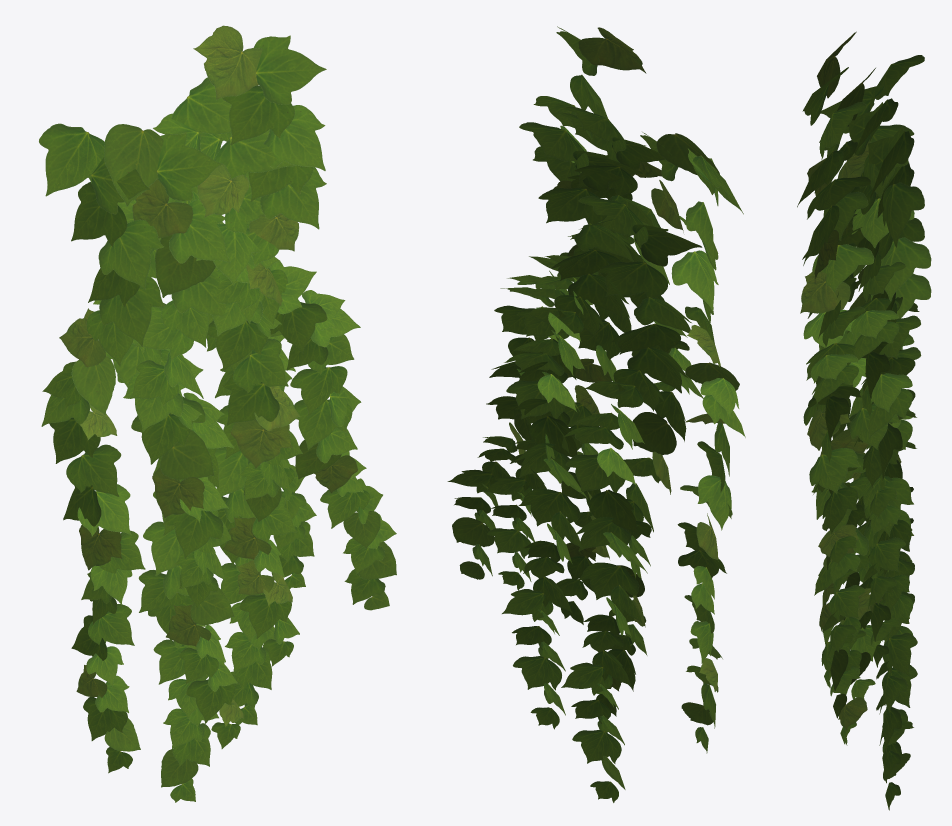
File: SM_Ivy_02.fbx
3 views of the same model, side by side, from view 1: azimuth 30°, elevation 25°; view 2: azimuth 150°, elevation 25°; view 3: azimuth 270°, elevation 25° (orthographic). The views are drawn at different scales.
Parts seen in each view (by area): view 1: SM_Ivy_02_LOD0; view 2: SM_Ivy_02_LOD0; view 3: SM_Ivy_02_LOD0.
Part boxes in pixels (<box>): SM_Ivy_02_LOD0: <box>39,25,396,802</box>; SM_Ivy_02_LOD0: <box>447,26,745,802</box>; SM_Ivy_02_LOD0: <box>797,31,931,810</box>.
Bounding box in the file's own units: 94.31 × 35.3 × 204.
